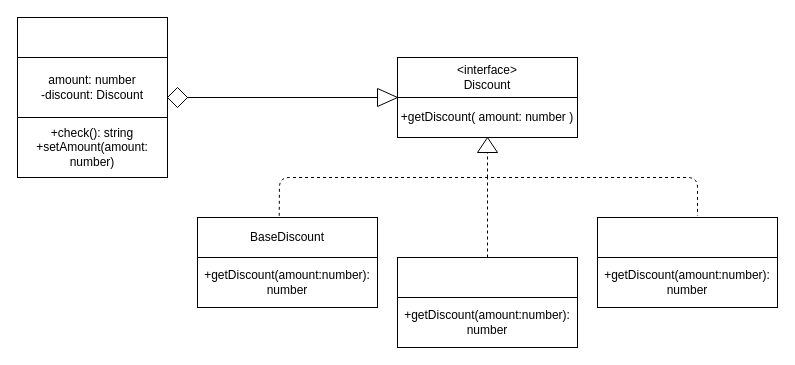
The diagram is 795 pixels wide and 365 high, and some of its shapes have lost their labels. The shapes that lost their labels are listed below. From the top down, each one's box as (x1, y1, x2, y2) in pixels, then its label:
(16, 16, 168, 58): ProductDiscount
(596, 216, 778, 258): PlatinumDiscount
(396, 256, 578, 298): PremiumDiscount
